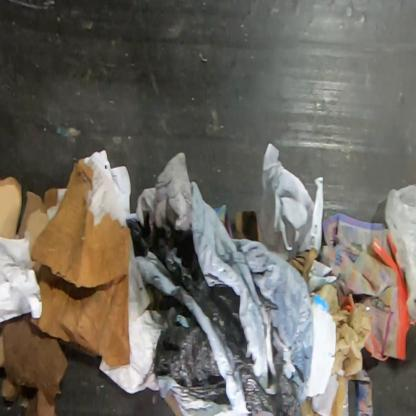cardboard: (30, 158, 132, 368), (0, 176, 58, 253), (288, 247, 320, 278), (234, 209, 263, 241)
soft_plastic: (125, 150, 316, 415), (383, 183, 415, 323)
